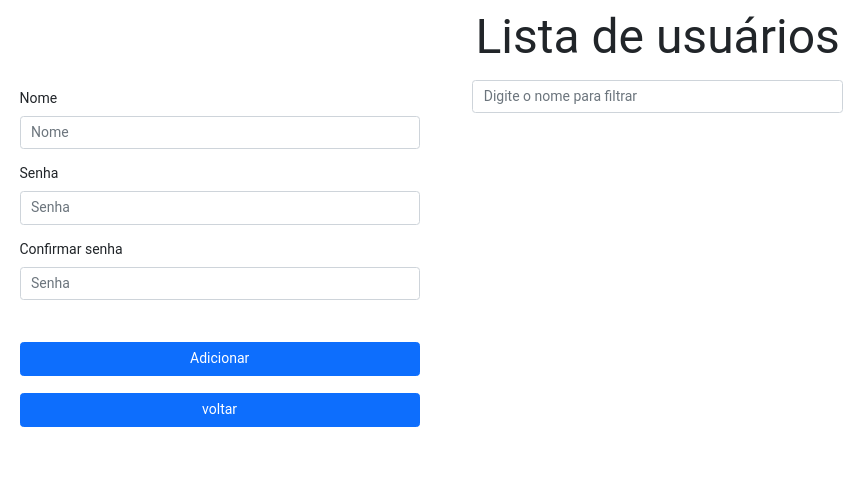
register user › add new user and log in
The width and height of the screenshot is (860, 477).
Type "user" into the field with id "input-username" at (220, 133), box [20,116,420,150]
Type "password" into the password field with id "input-password" at (220, 208), box [20,191,420,225]
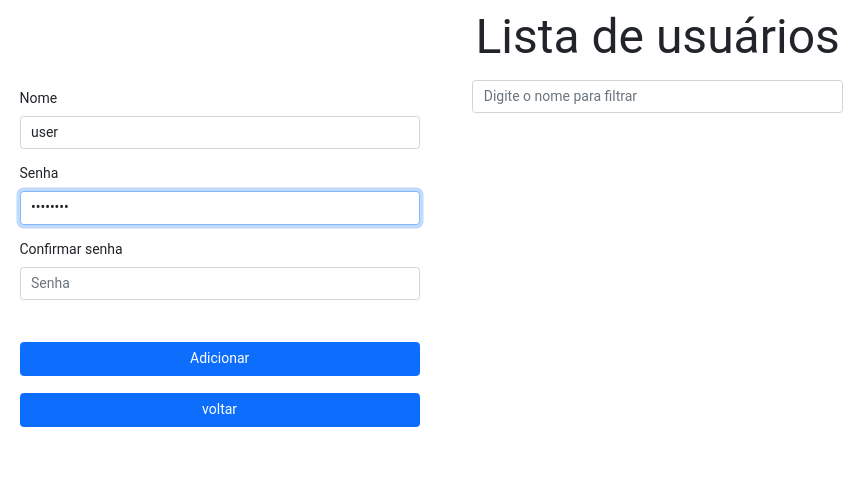
Type "password" into the password field with id "input-confirm-password" at (220, 284), box [20,267,420,301]
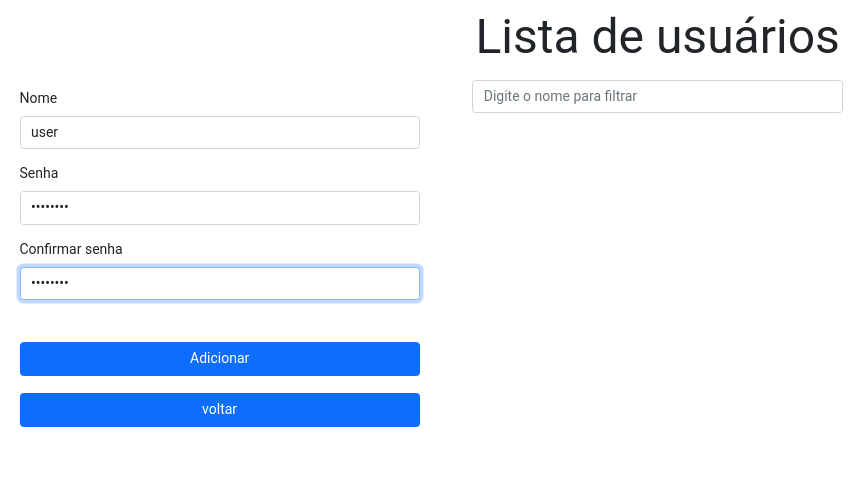
Click the button "Adicionar" at (220, 359), box [20,342,420,376]
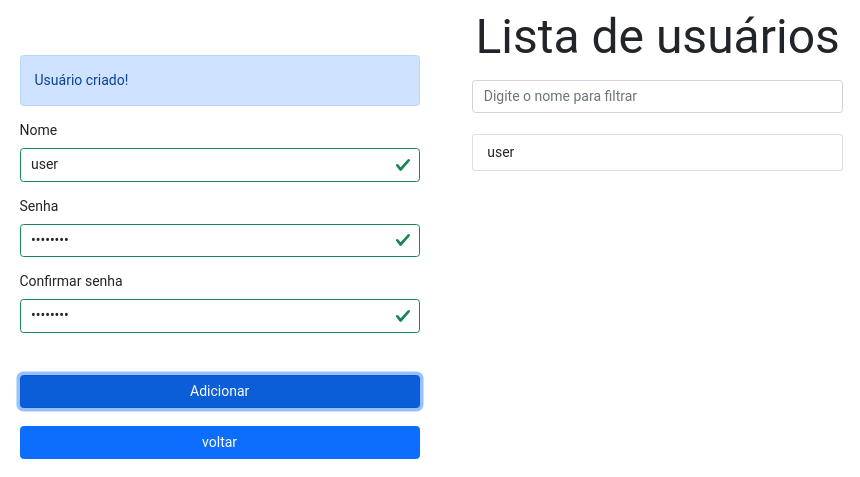
Click the button with id "to-login" at (220, 443), box [20,426,420,460]
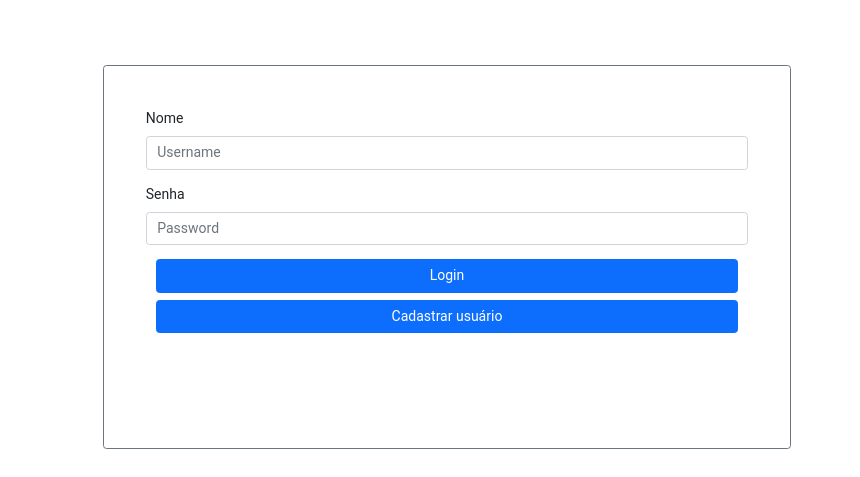
Type "user" into the field with id "input-username" at (448, 153), box [146,136,749,170]
Type "password" into the password field with id "input-password" at (448, 229), box [146,212,749,246]
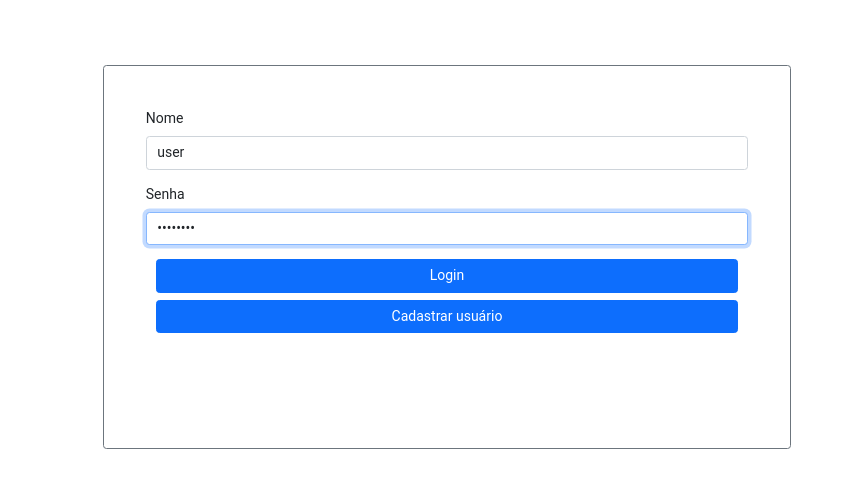
Click the button with id "login" at (447, 276), box [156,259,738,293]
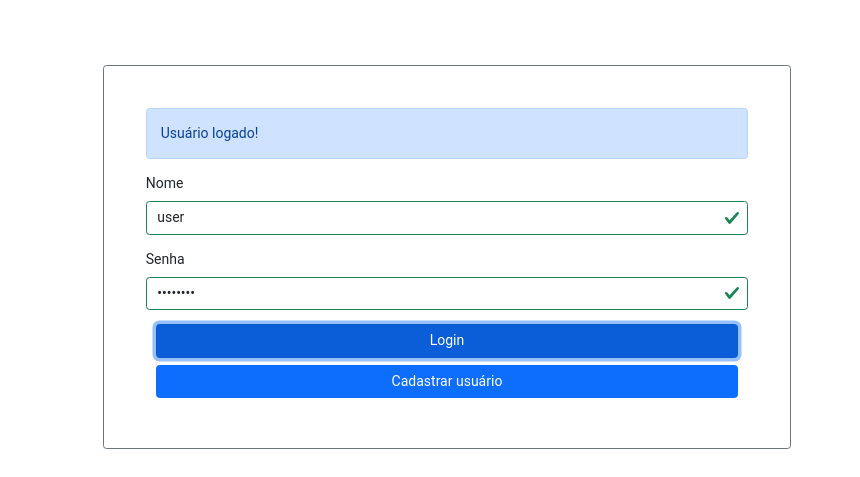
Expected: the message with class "alert" reads "Usuário logado!", [146,108,749,159]
